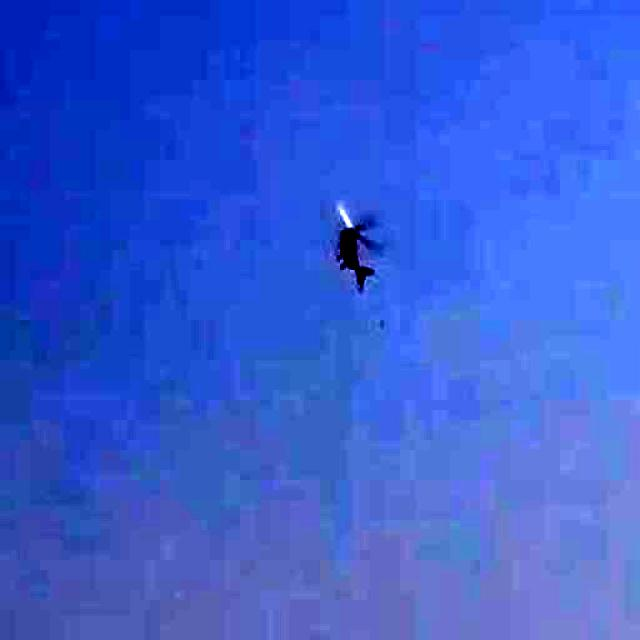drone: (304, 160, 410, 310)
